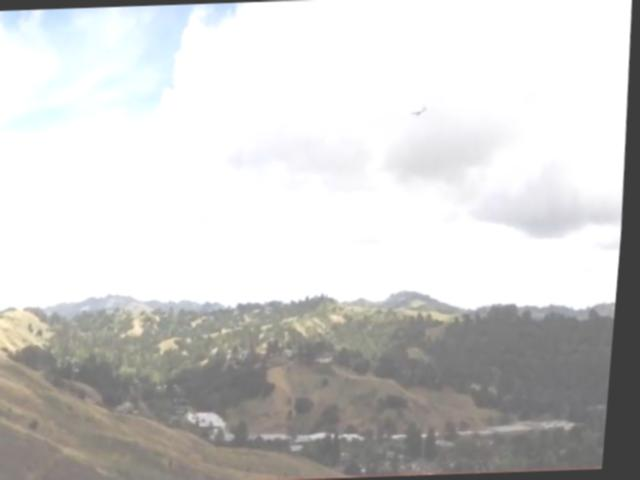iha: (413, 106, 429, 118)
